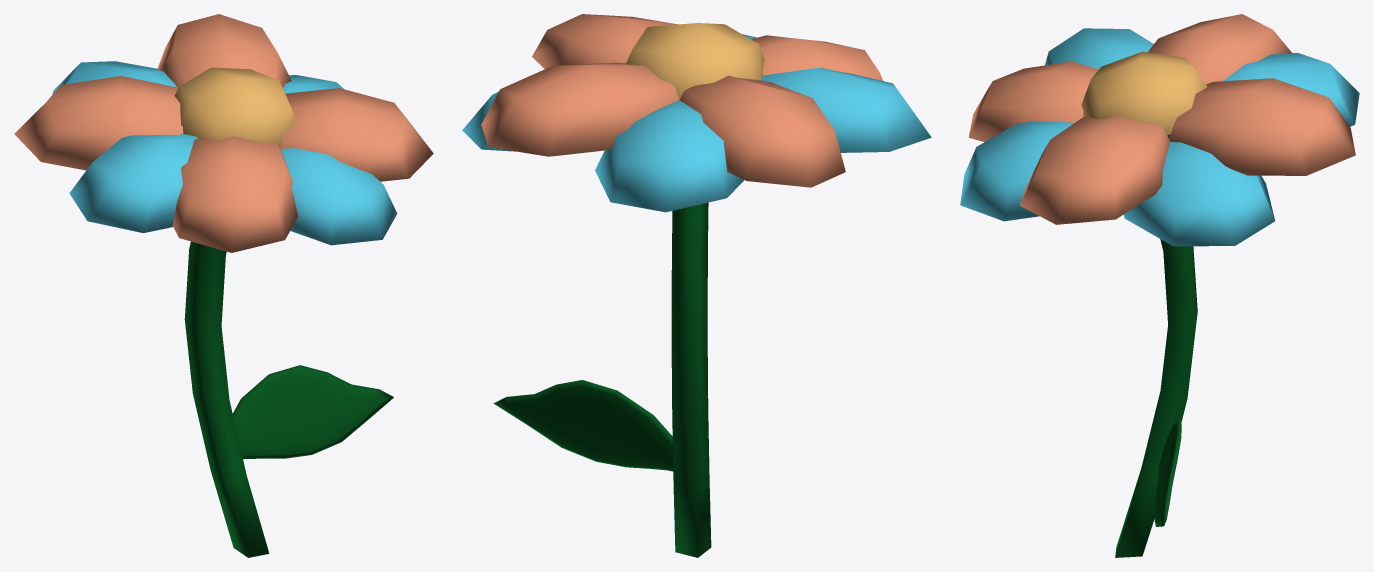
File: props_Flower_B.fbx
3 renders of one model, left to right at view 1: azimuth 30°, elevation 25°; view 2: azimuth 150°, elevation 25°; view 3: azimuth 270°, elevation 25°, orthographic. The views are drawn at different scales.
Visible parts, largest first — view 1: fleur_b; view 2: fleur_b; view 3: fleur_b.
Boxes of the visible parts, x1,y1,x2,y2 form: fleur_b: (14, 14, 433, 557); fleur_b: (462, 14, 931, 557); fleur_b: (960, 14, 1359, 557).
Bounding box in the file's own units: 39.46 × 51.28 × 38.02.
